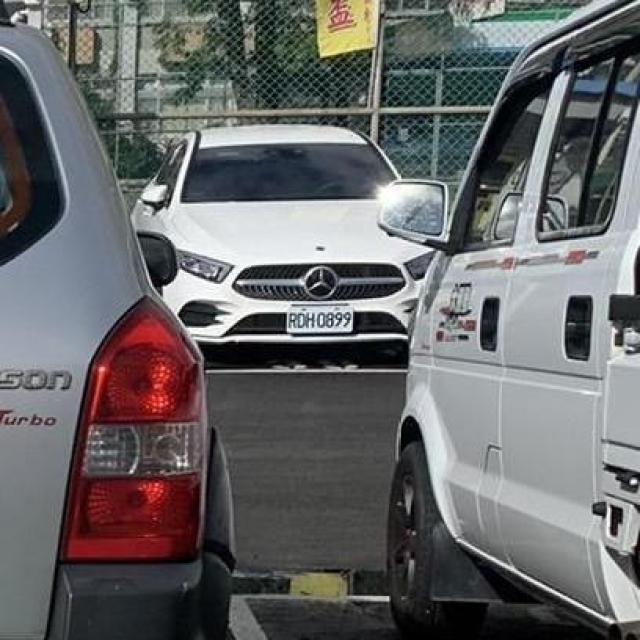W: (286, 301, 354, 332)
